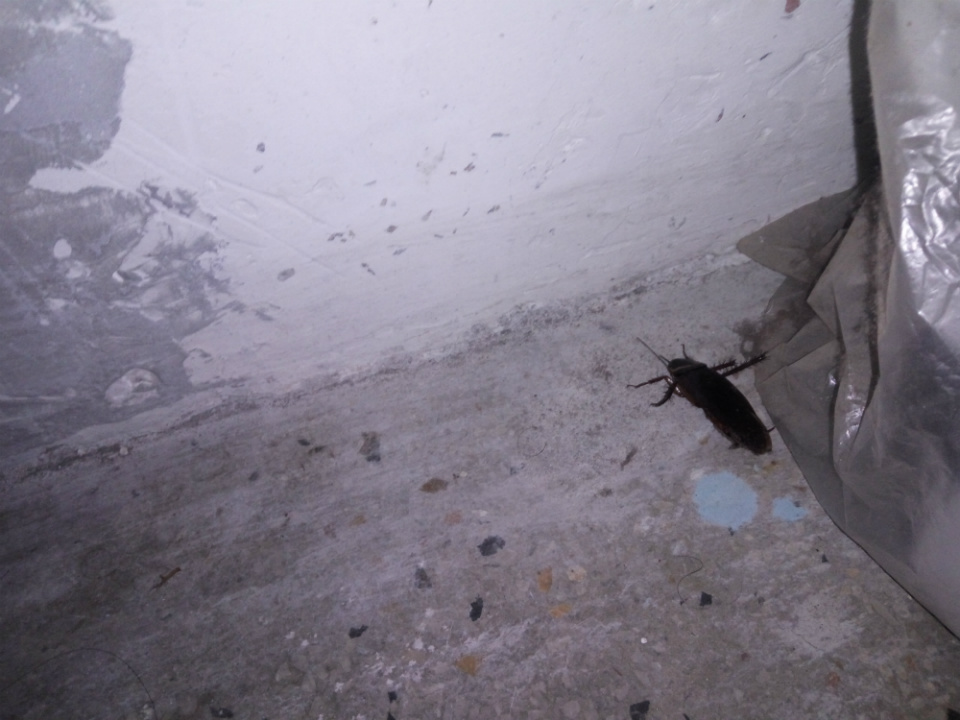cockroach: (609, 333, 791, 468)
